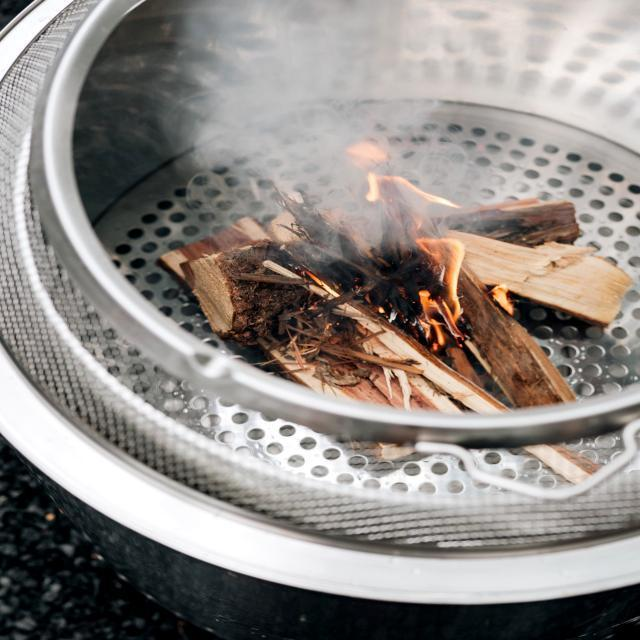Fire: (362, 167, 530, 360)
Smoke: (150, 1, 626, 222)
